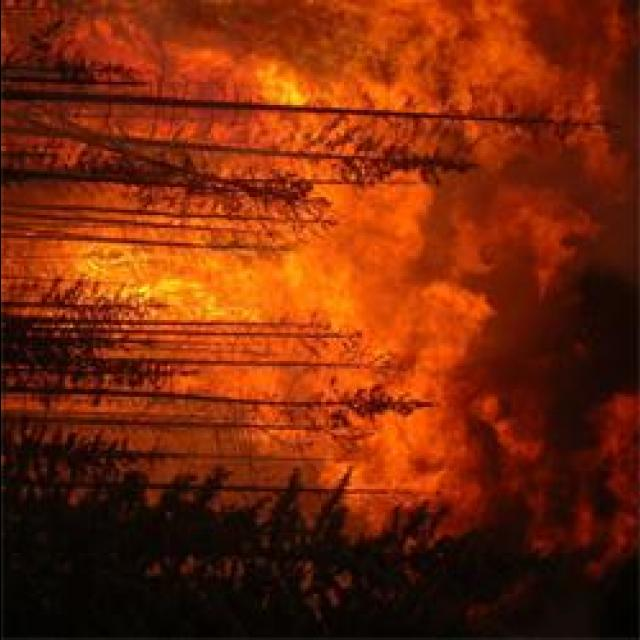fire: (100, 256, 304, 322)
smoke: (506, 254, 640, 480), (442, 484, 634, 628), (375, 0, 632, 98), (442, 193, 598, 279), (389, 282, 493, 380), (338, 191, 431, 273)
